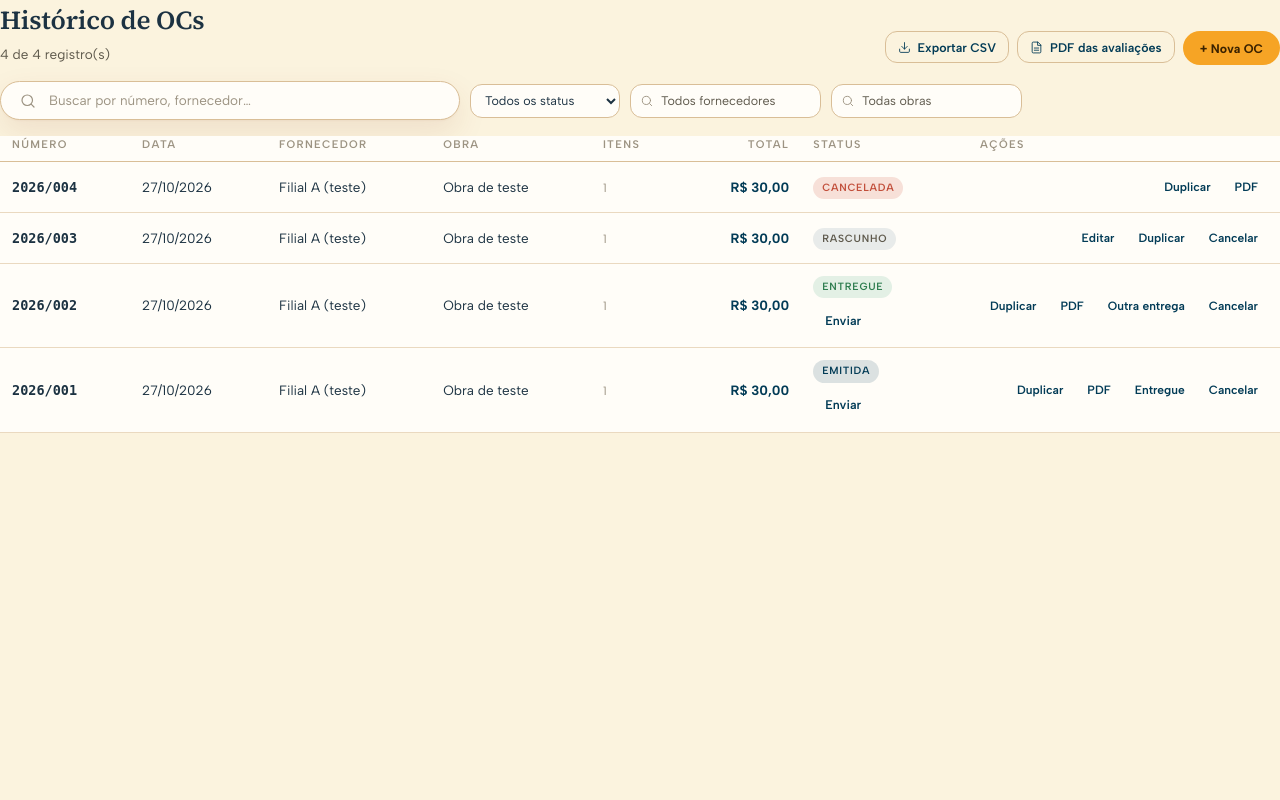
D604 §3.2 — o "Entregue" abre a avaliação › sem a nota fiscal, ou sem as três respostas: zero gravação, e a caixa diz o que falta
The width and height of the screenshot is (1280, 800).
Step 1. Click the button "Entregue" → click(1160, 390), box [1125, 376, 1195, 404]
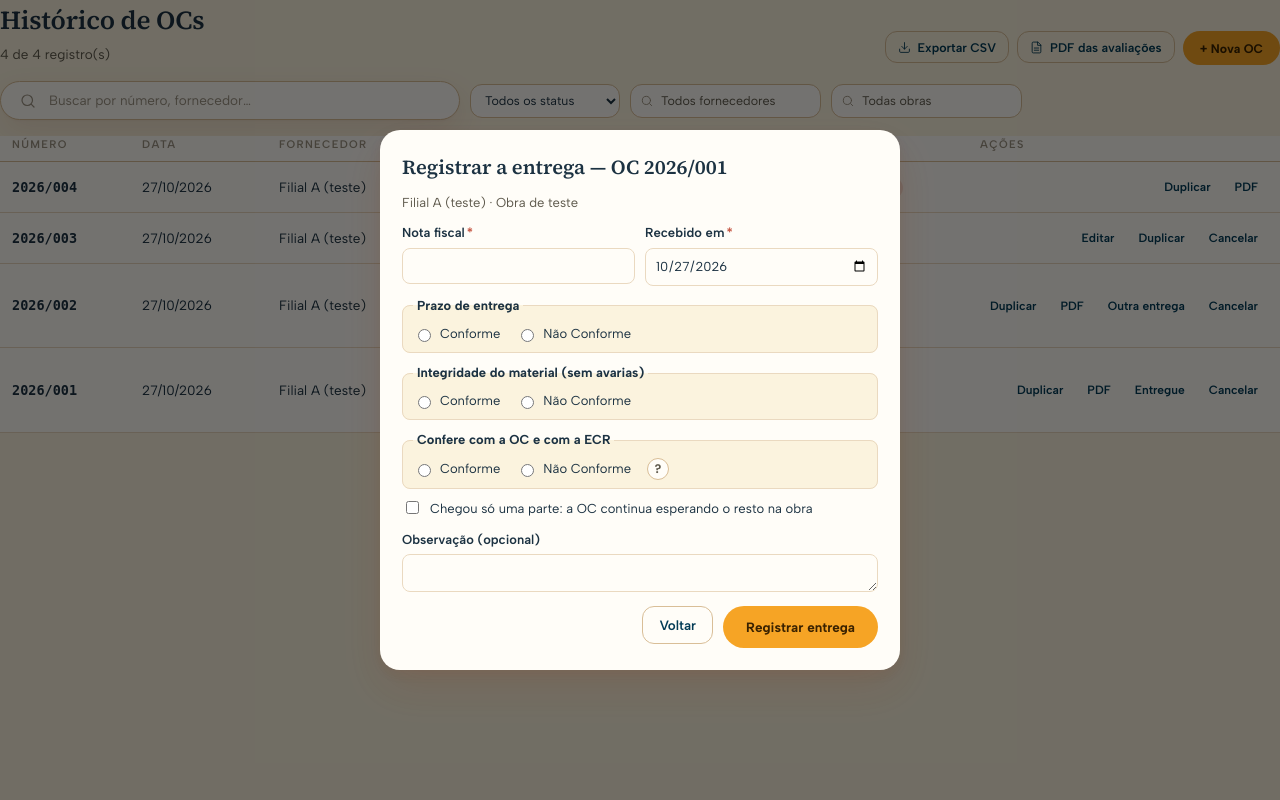
Step 2. Click the button "Registrar entrega" → click(801, 627), box [723, 606, 878, 648]
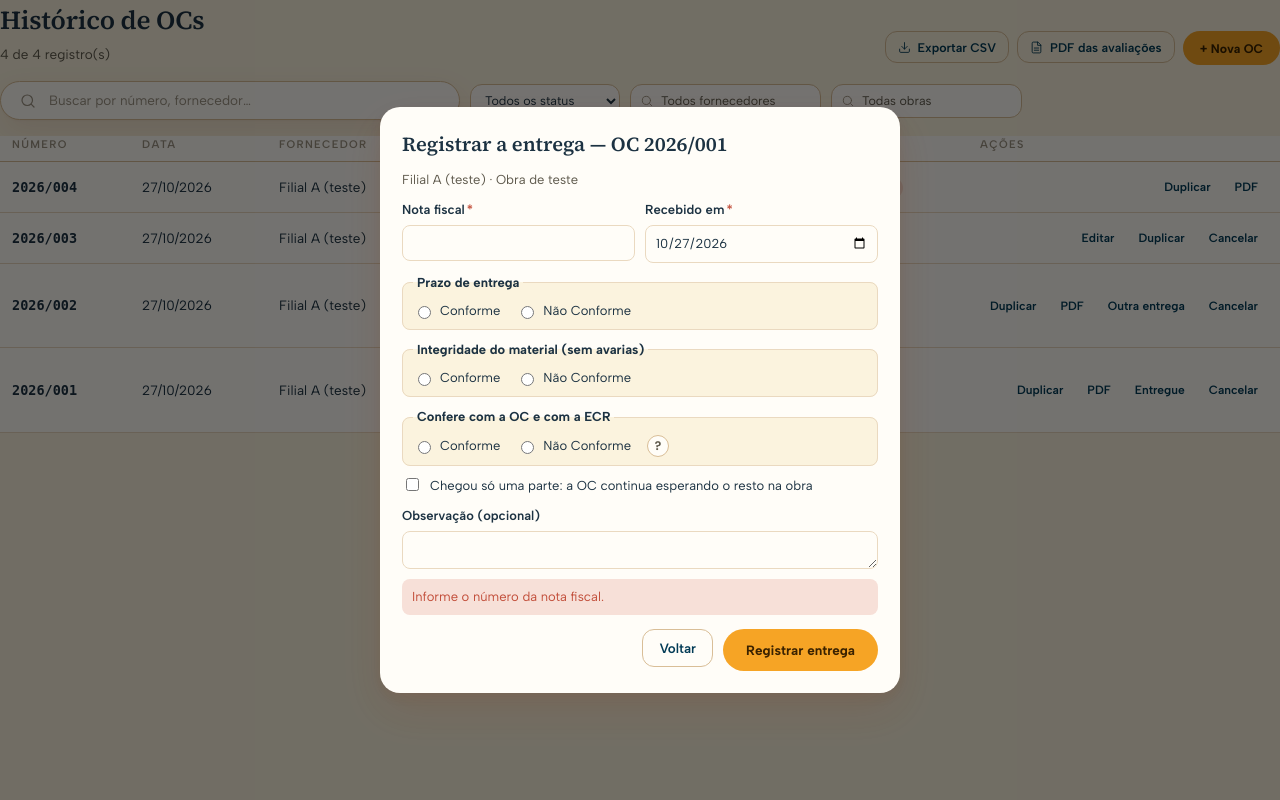
Now the message reads "Informe o número da nota fiscal.", box [412, 589, 604, 604]
Step 3. Type "1234" into the field labelled "Nota fiscal*" → (518, 243), box [402, 224, 635, 261]
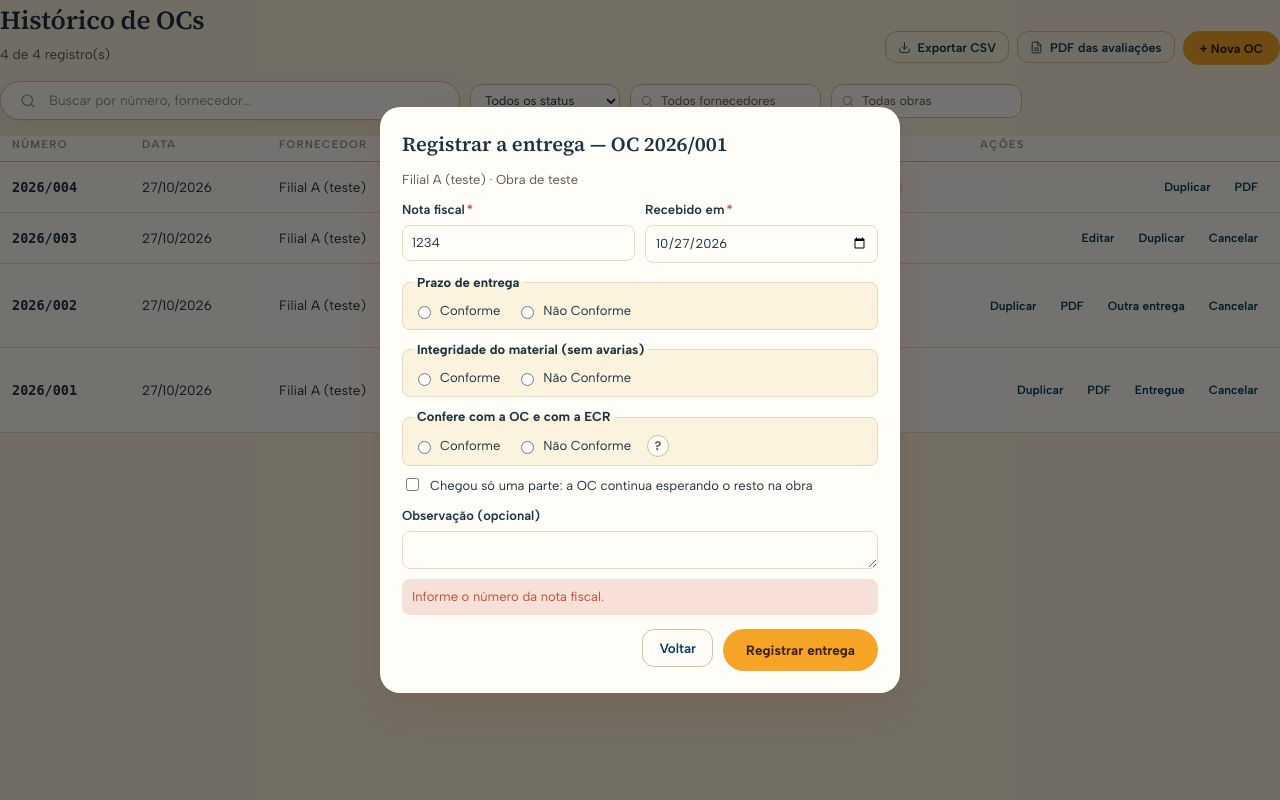
Step 4. Click the radio button labelled "Conforme" below "Prazo de entrega" → click(424, 312), box [418, 306, 431, 319]
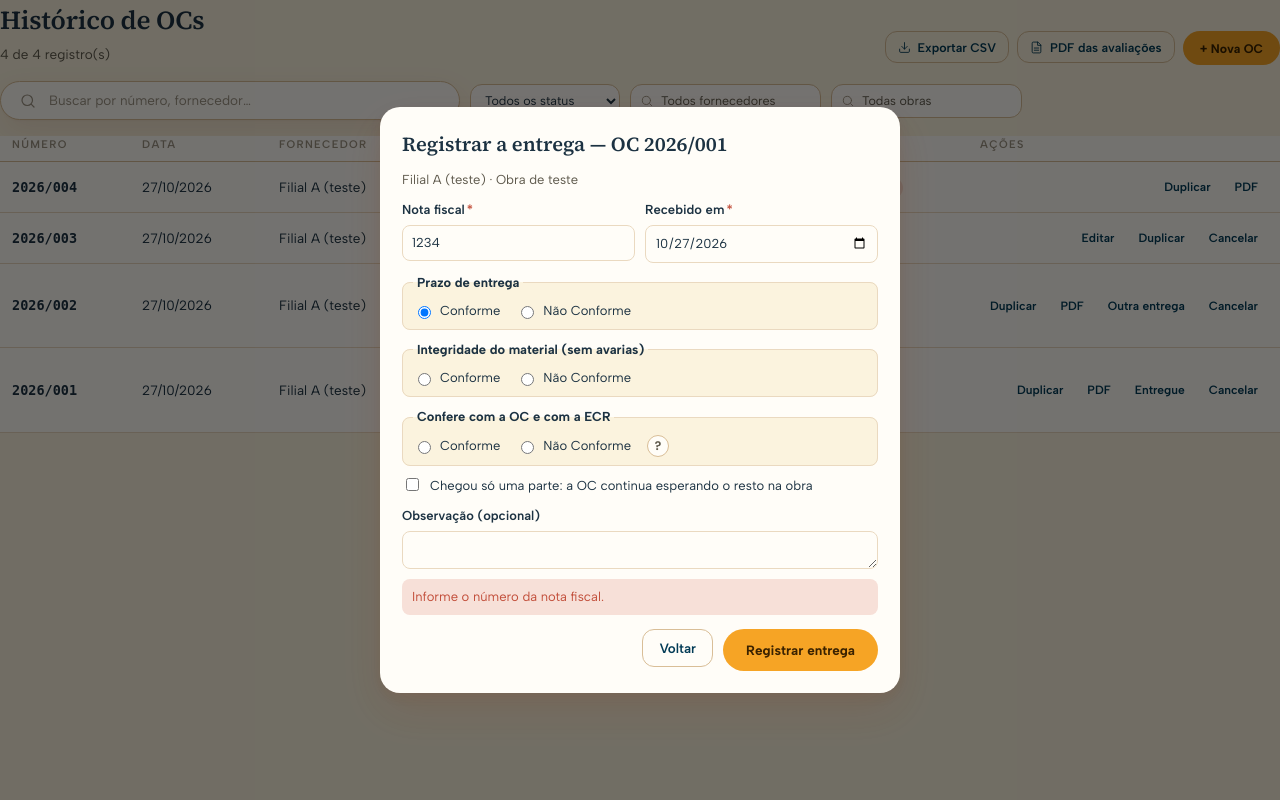
Step 5. Click the radio button labelled "Conforme" below "Integridade do material (sem avarias)" → click(424, 380), box [418, 373, 431, 386]
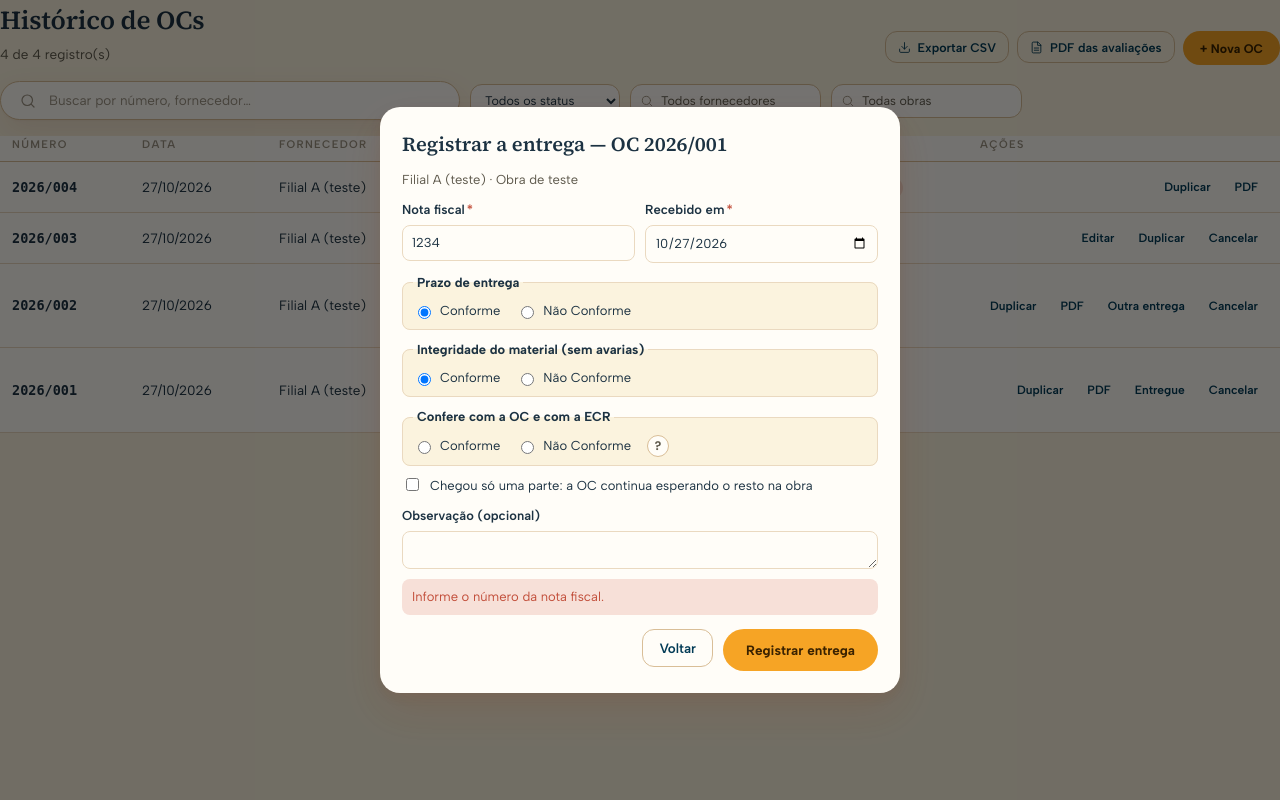
Step 6. Click the button "Registrar entrega" → click(801, 650), box [723, 629, 878, 671]
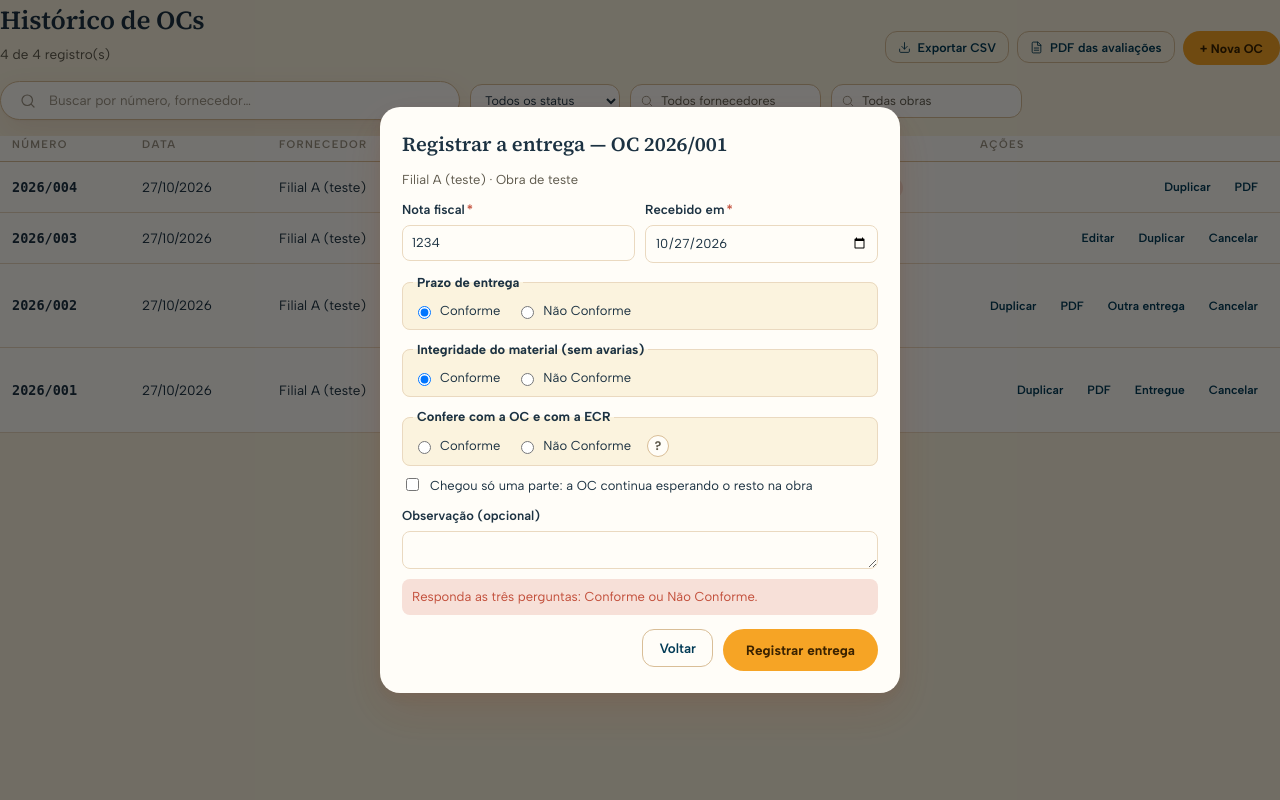
Now the message shows "Responda as três perguntas", box [412, 589, 758, 604]
